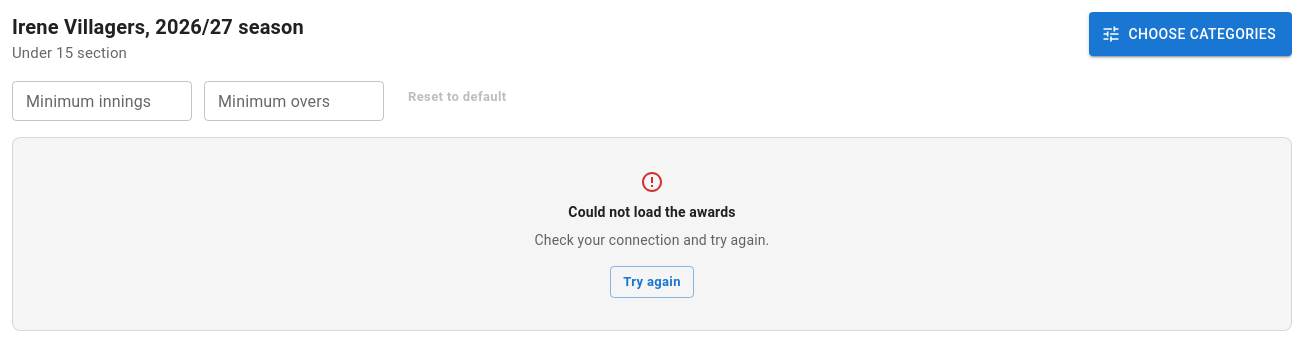
Test: AwardsView › a failed read shows a retry
Expected: the text "Could not load the awards" is shown, [568,202,736,222]
Click the button "Try again".
click(652, 282)  # box [610,266,694,298]
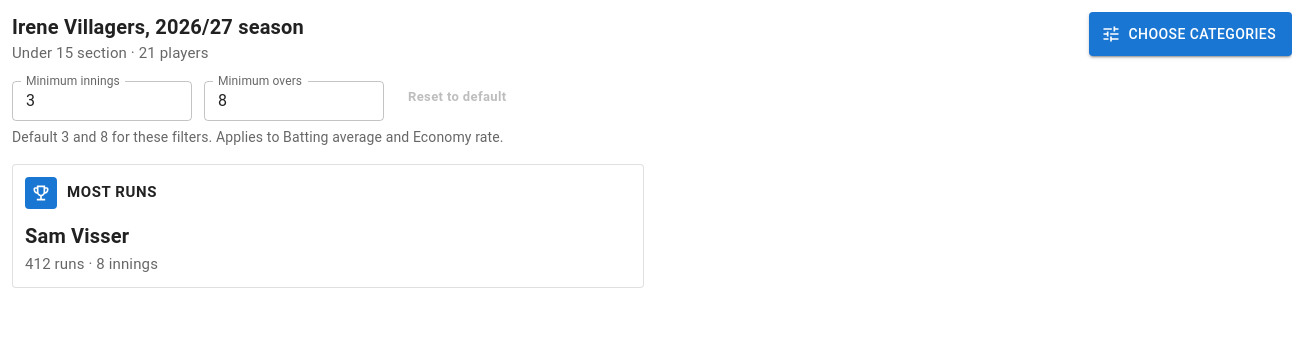
Now the element with test id "award-MOST_RUNS" is shown, box [12,164,644,288]
